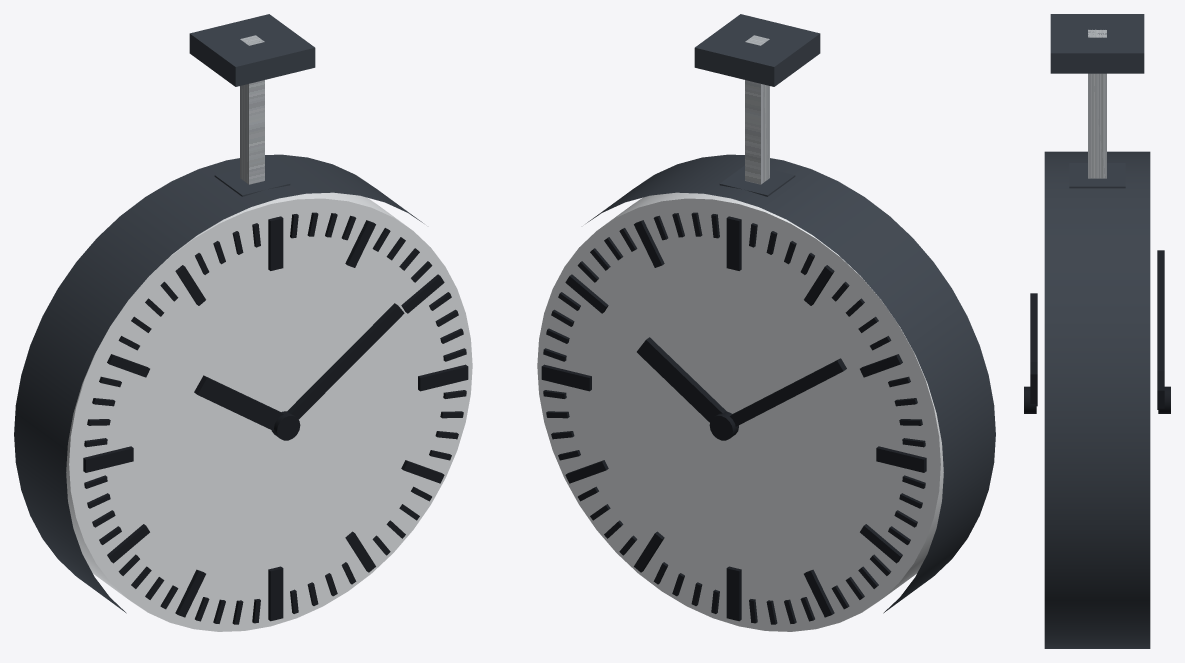
File: clock.glb
3 renders of one model, left to right at view 1: azimuth 30°, elevation 25°; view 2: azimuth 150°, elevation 25°; view 3: azimuth 270°, elevation 25°, orthographic.
Visible parts, largest first — view 1: white, darkSteel, darkSteel3, steel, clockMinuteArm, clockHourArm, darkSteel2, black55, black49, black52, black58; view 2: white, darkSteel, darkSteel3, steel, clockHourArm2, clockMinuteArm2, darkSteel2, black116, black110, black113, black119; view 3: darkSteel, darkSteel3, steel, darkSteel2, clockMinuteArm2, clockHourArm, clockMinuteArm, clockHourArm2, black61.
Boxes of the visible parts, x1,y1,x2,y2 form: white: (66, 192, 472, 631); darkSteel: (14, 154, 423, 613); darkSteel3: (189, 14, 315, 86); steel: (240, 35, 264, 184); clockMinuteArm: (287, 303, 404, 419); clockHourArm: (194, 375, 283, 430); darkSteel2: (214, 165, 290, 196); black55: (268, 566, 283, 621); black49: (268, 216, 283, 270); black52: (418, 364, 468, 391); black58: (83, 446, 133, 472); white: (537, 192, 943, 631); darkSteel: (586, 154, 995, 613); darkSteel3: (694, 14, 820, 86); steel: (745, 35, 769, 184); clockHourArm2: (637, 337, 726, 422); clockMinuteArm2: (730, 358, 846, 426); darkSteel2: (719, 165, 795, 196); black116: (726, 566, 741, 621); black110: (726, 216, 741, 270); black113: (876, 446, 926, 472); black119: (541, 364, 591, 391); darkSteel: (1044, 151, 1150, 648); darkSteel3: (1050, 14, 1144, 73); steel: (1088, 29, 1106, 178); darkSteel2: (1069, 163, 1125, 188); clockMinuteArm2: (1157, 250, 1164, 370); clockHourArm: (1030, 293, 1037, 361); clockMinuteArm: (1030, 362, 1037, 406); clockHourArm2: (1157, 371, 1164, 409); black61: (1024, 386, 1036, 413).
Bounding box in the file's own units: 0.8 × 1.05 × 0.236.
Materials: 4 (1 with a texture image).
